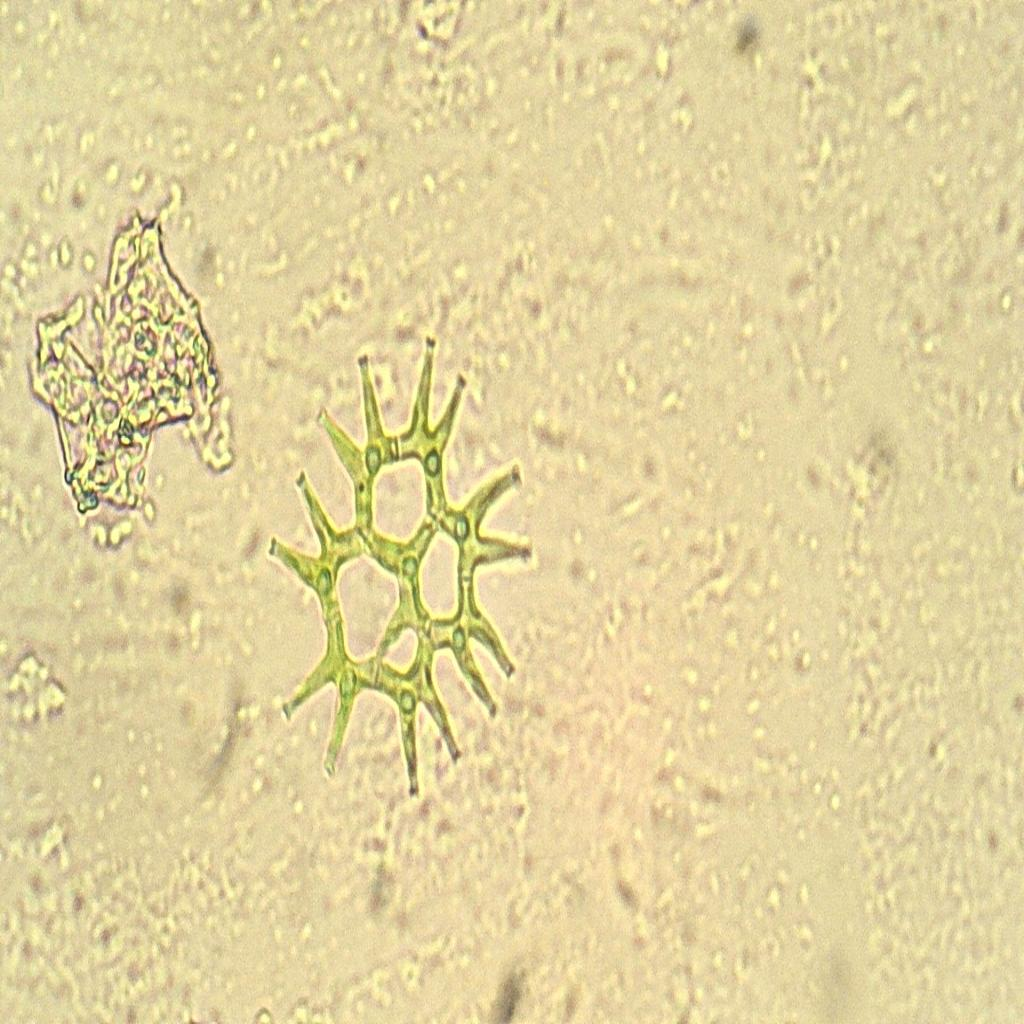Pediastrum_75T: (260, 324, 544, 818)
